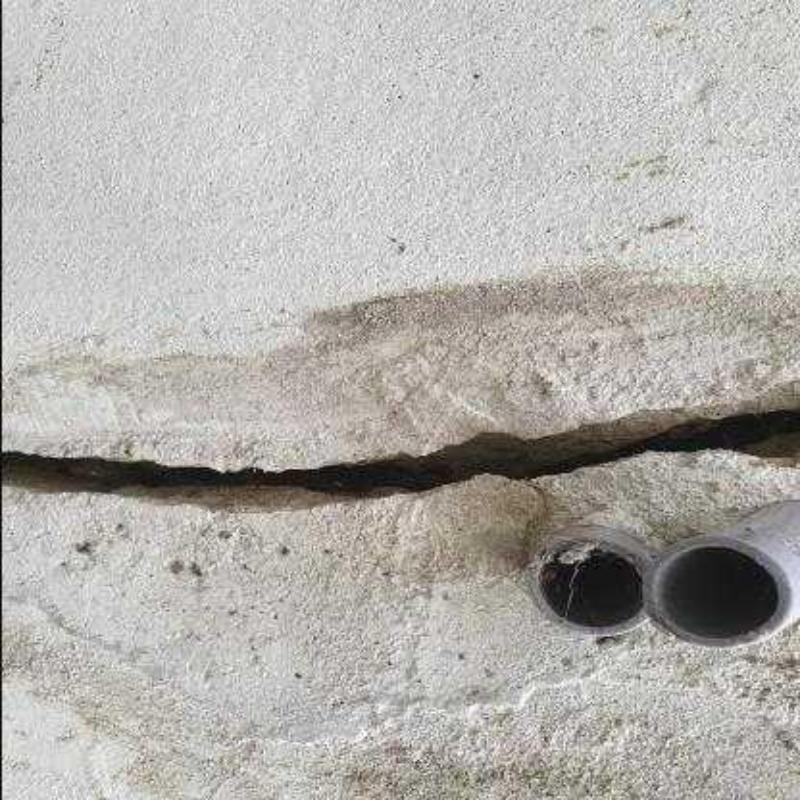pothole: (1, 381, 800, 514)
